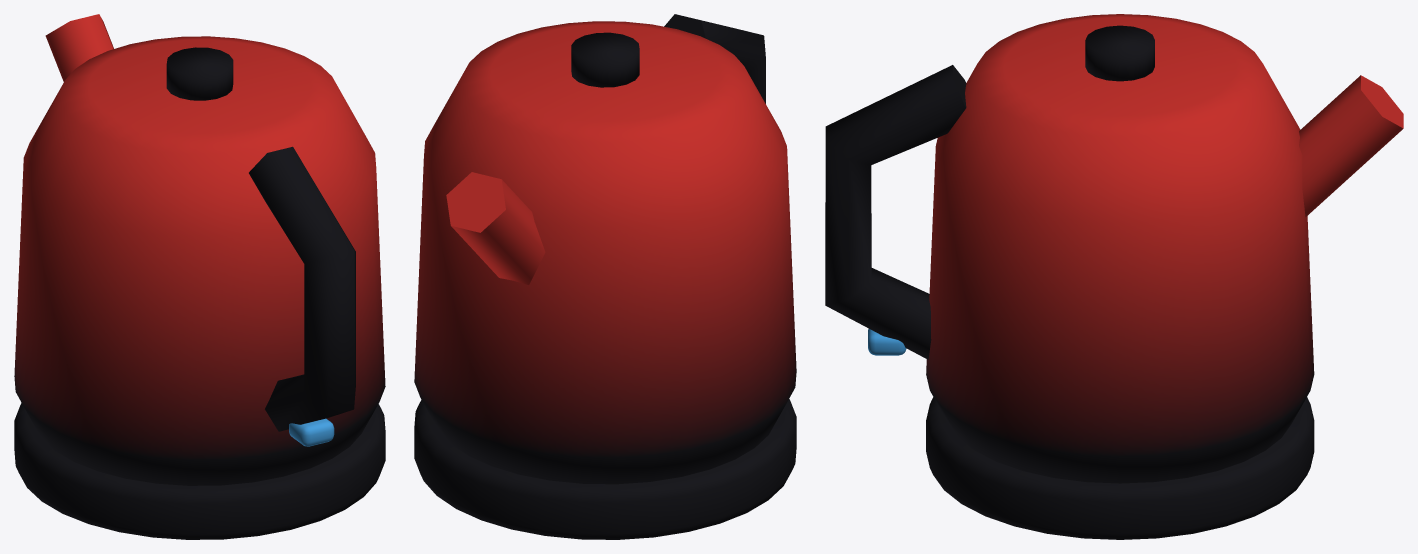
The model's file is kettle.glb.
The picture shows the model from 3 angles, left to right: view 1: azimuth 30°, elevation 25°; view 2: azimuth 150°, elevation 25°; view 3: azimuth 270°, elevation 25°; orthographic projection. The views are drawn at different scales.
Parts seen in each view (by area): view 1: kettle; view 2: kettle; view 3: kettle.
Part boxes in pixels (x1=…): kettle: x1=14, y1=14, x2=385, y2=539; kettle: x1=414, y1=14, x2=796, y2=539; kettle: x1=825, y1=14, x2=1403, y2=539.
Size of the model in its own units: 0.2 by 0.24 by 0.2979.
